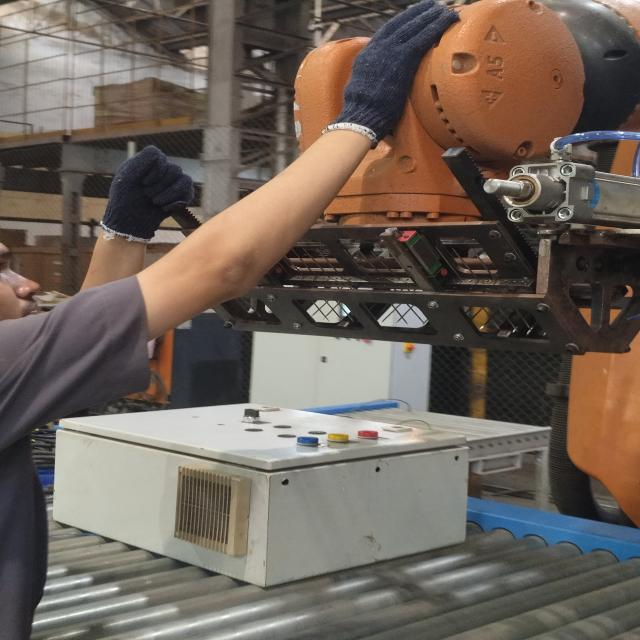Gloves-Detection: (367, 8, 420, 143), (120, 149, 196, 234)
